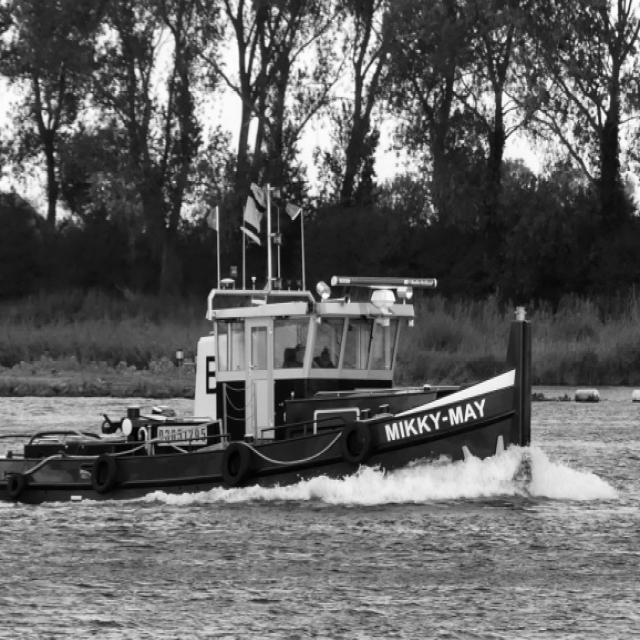tugboat: (1, 268, 540, 517)
